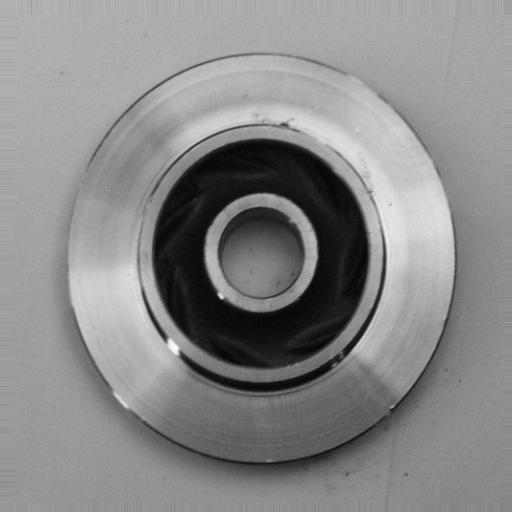crack: (244, 109, 315, 143)
scratch: (144, 311, 201, 368)
unpolished_casting: (64, 50, 460, 467)
